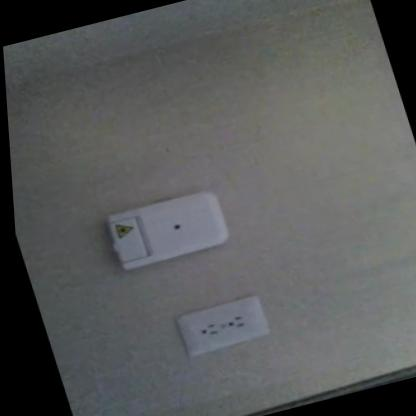OUTLET: (172, 292, 272, 356)
